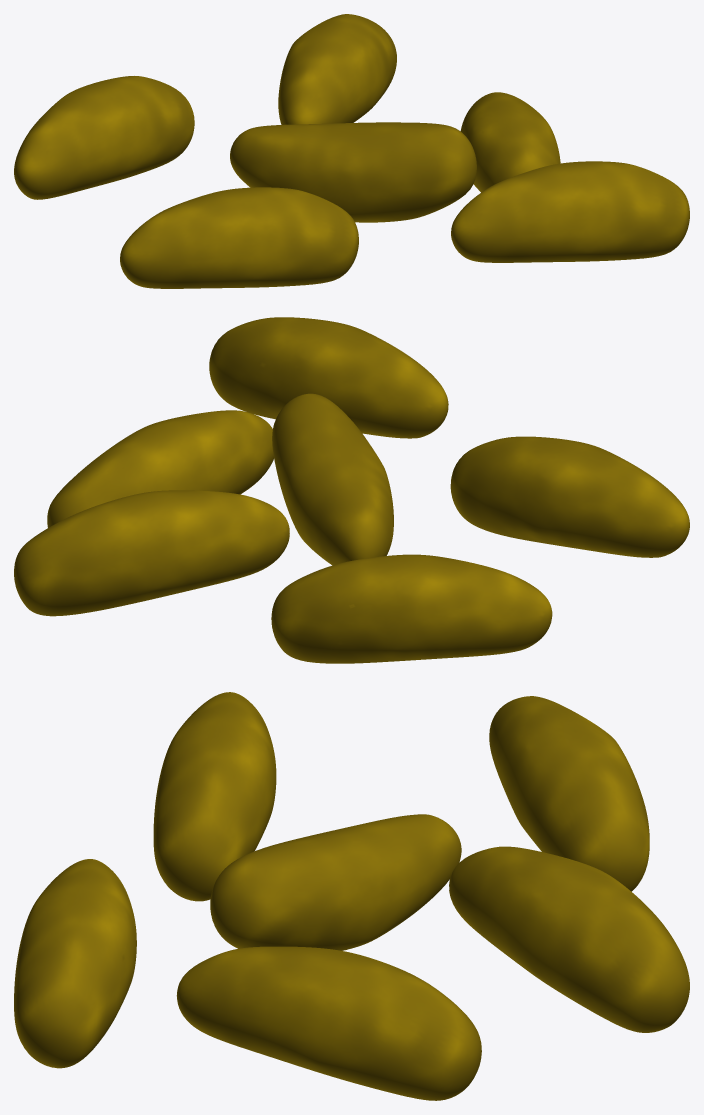
The model's file is pollen.glb.
3 views of the same model, one above another, from view 1: azimuth 30°, elevation 25°; view 2: azimuth 150°, elevation 25°; view 3: azimuth 270°, elevation 25° (orthographic). The views are drawn at different scales.
Parts seen in each view (by area): view 1: Object_2; view 2: Object_2; view 3: Object_2.
Part boxes in pixels (box(x1,y1,x2,y2)): Object_2: box(14, 14, 689, 288); Object_2: box(14, 317, 689, 663); Object_2: box(14, 692, 689, 1100).
Bounding box in the file's own units: 15.16 × 3.74 × 14.39.
